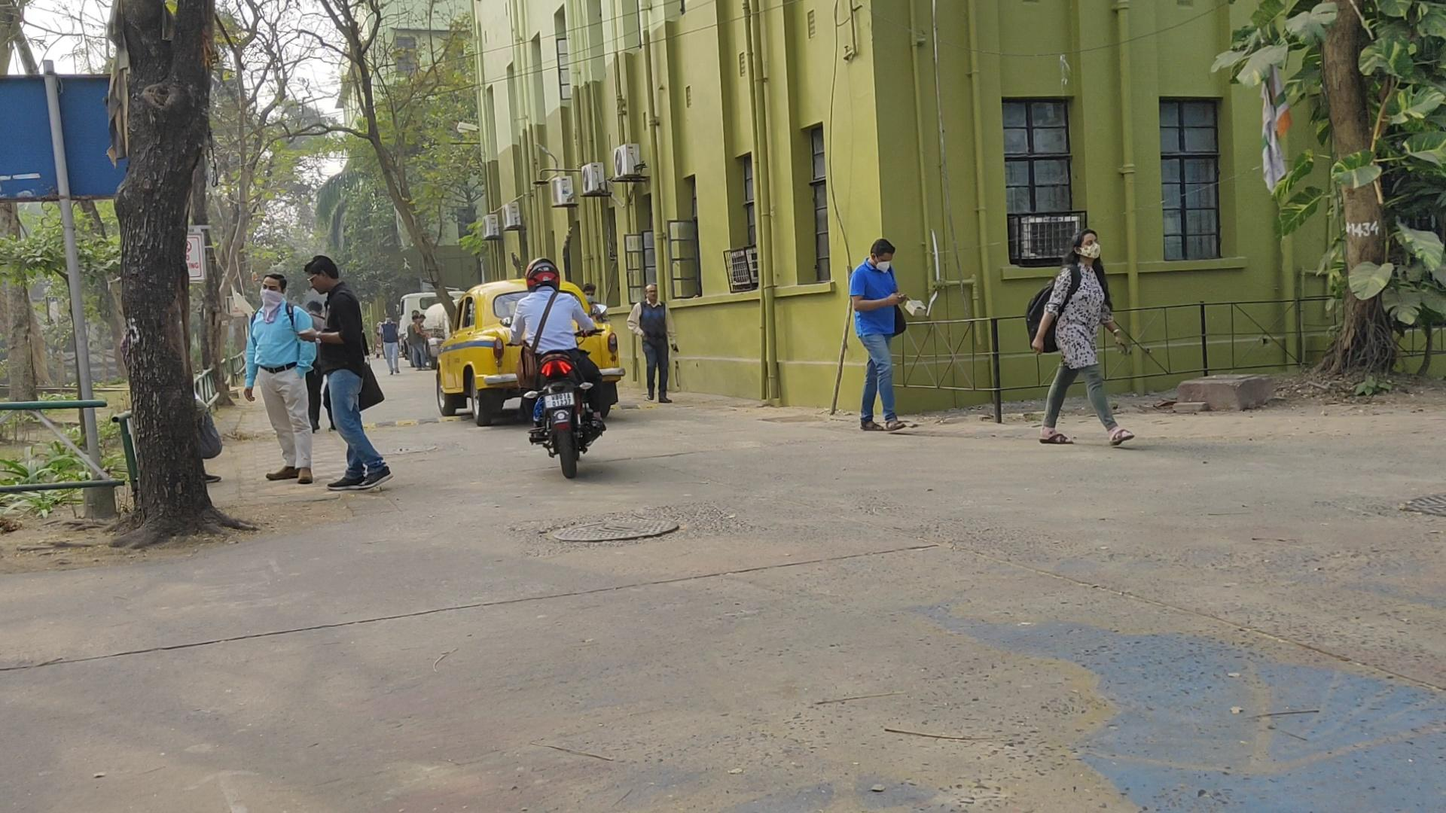bike: (500, 255, 608, 476)
car: (435, 276, 627, 427)
